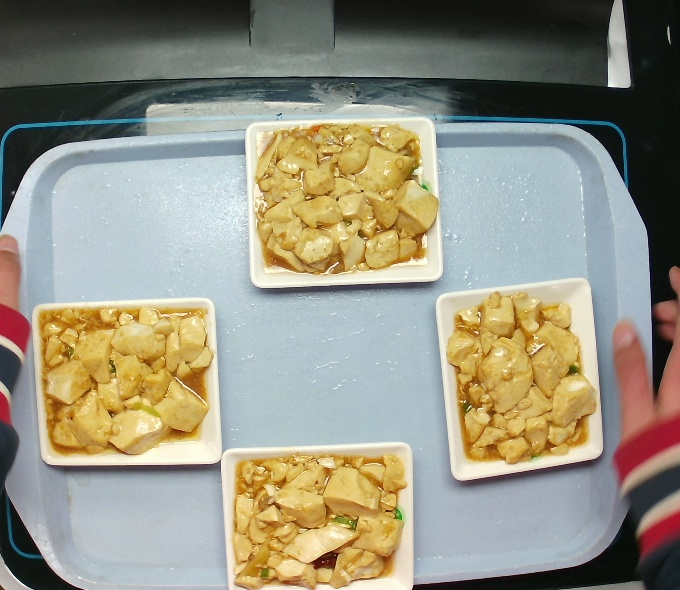wcq-DouFu: (443, 285, 605, 472), (253, 120, 429, 284), (39, 301, 209, 462), (225, 446, 410, 585)
